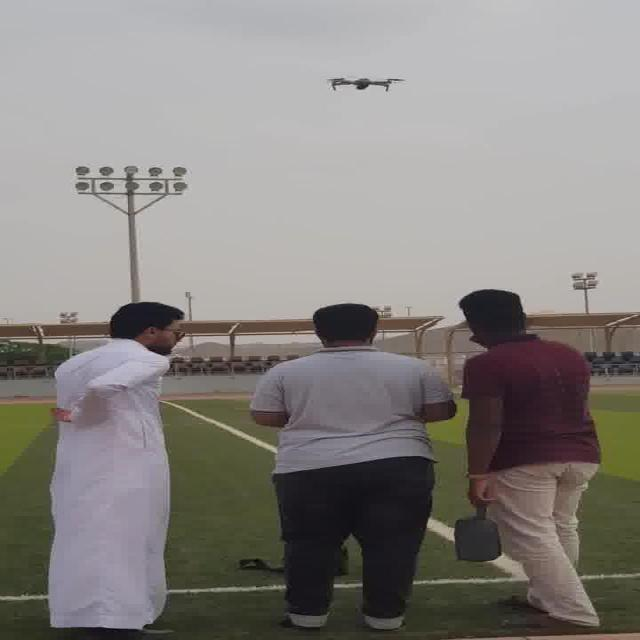drone: (319, 69, 420, 94)
